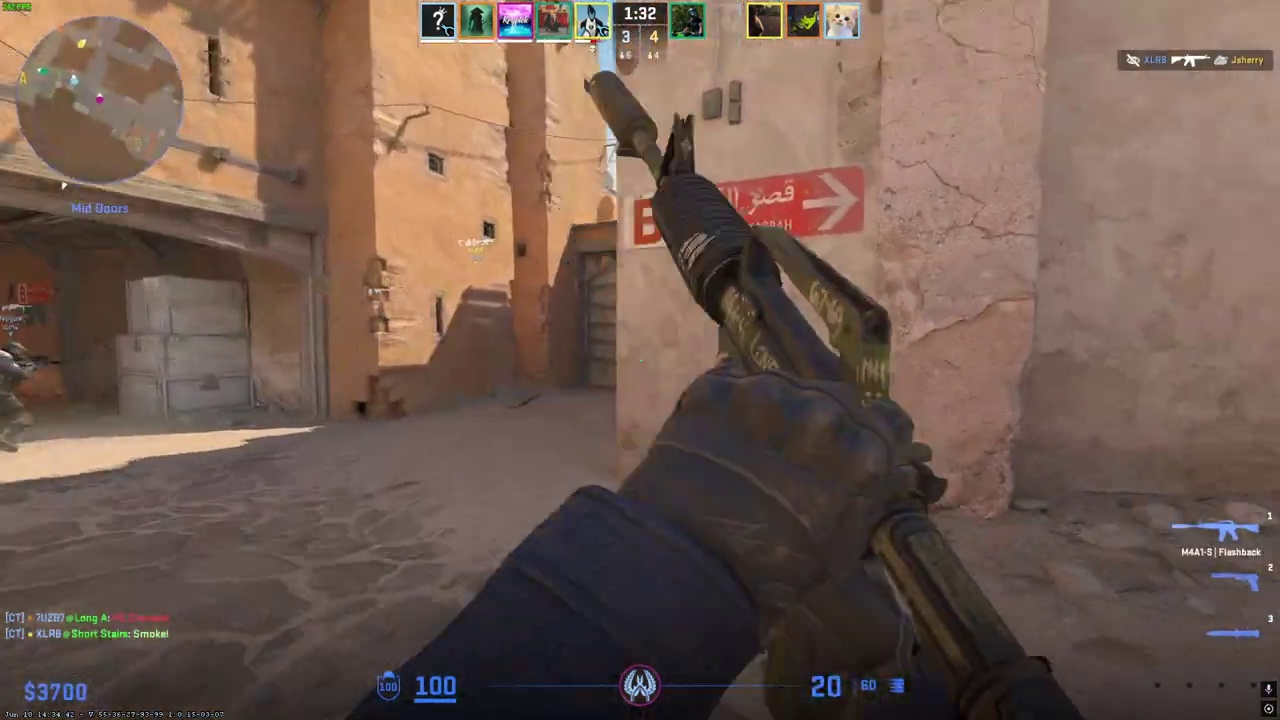CT: (0, 341, 41, 452)
